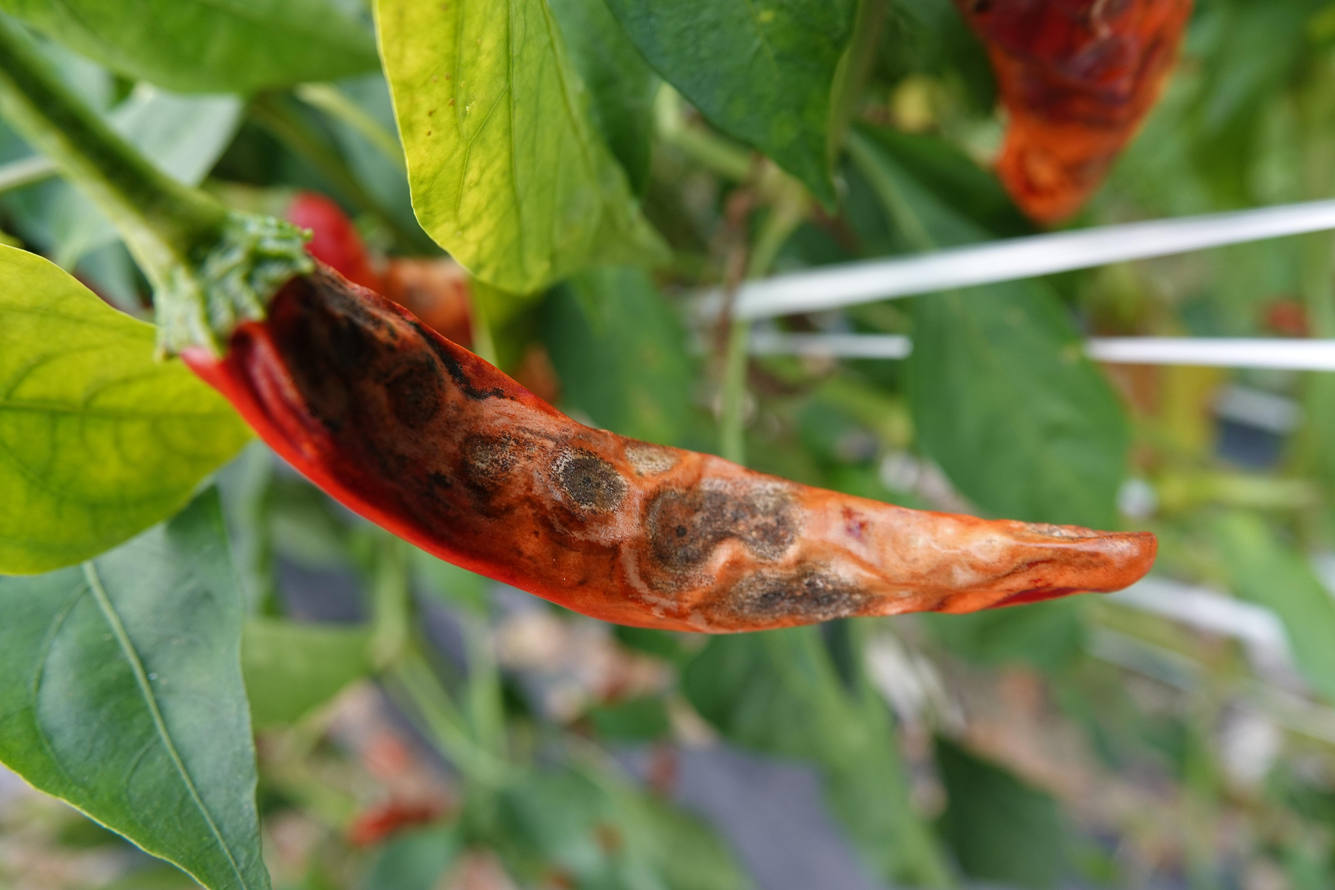Busuk Buah Antraknosa: (166, 216, 1160, 639)
